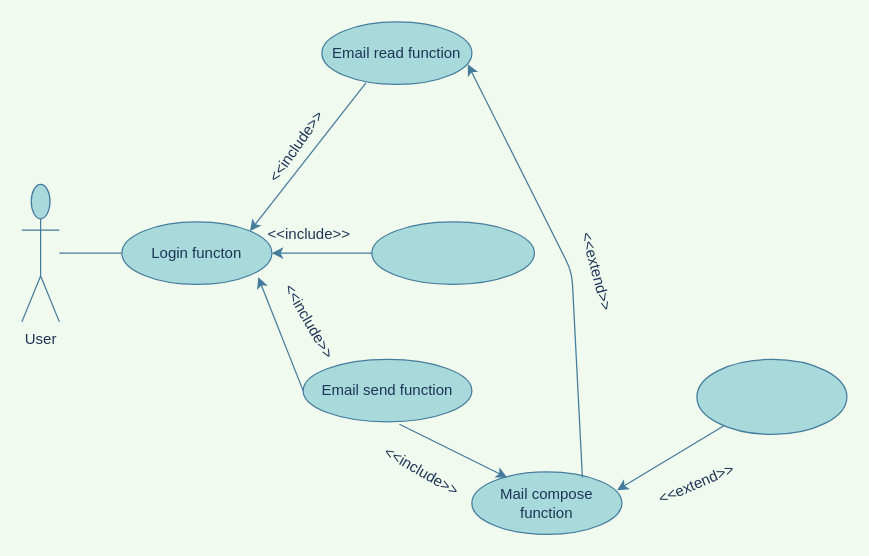
This 869x556 diagram has some shape labels left out. Each missing label, with the box of its shape:
Attach files: (696, 358, 847, 434)
Email delete function: (371, 221, 534, 284)
